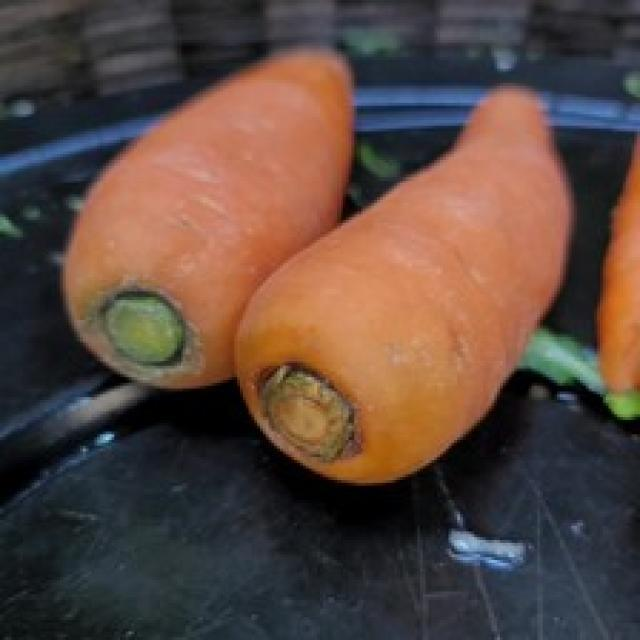carrot: (232, 82, 576, 486), (56, 41, 357, 388)
